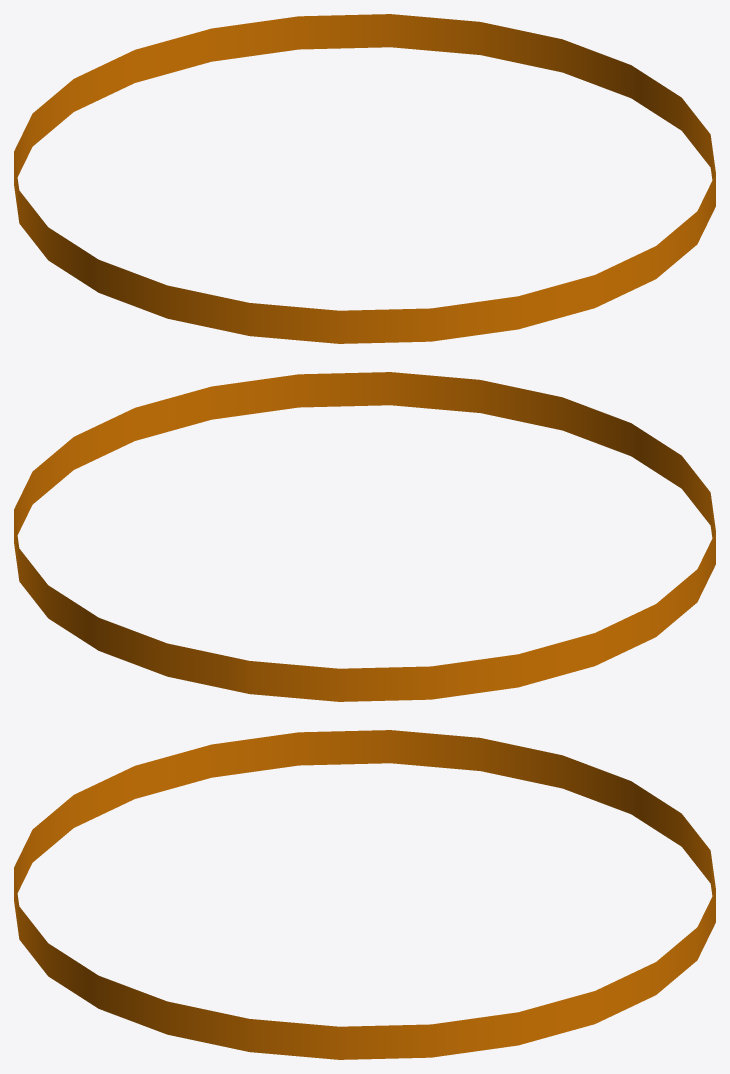
Rendered from original-30.obj.
3 views of the same model, one above another, from view 1: azimuth 30°, elevation 25°; view 2: azimuth 150°, elevation 25°; view 3: azimuth 270°, elevation 25° (orthographic).
Visible parts, largest first — view 1: #ID148; view 2: #ID148; view 3: #ID148.
Part boxes in pixels (box(x1,y1,x2,y2)): #ID148: box(14, 14, 715, 343); #ID148: box(14, 372, 715, 701); #ID148: box(14, 730, 715, 1059).
Size of the model in its own units: 0.0827 by 0.00432 by 0.0827.
